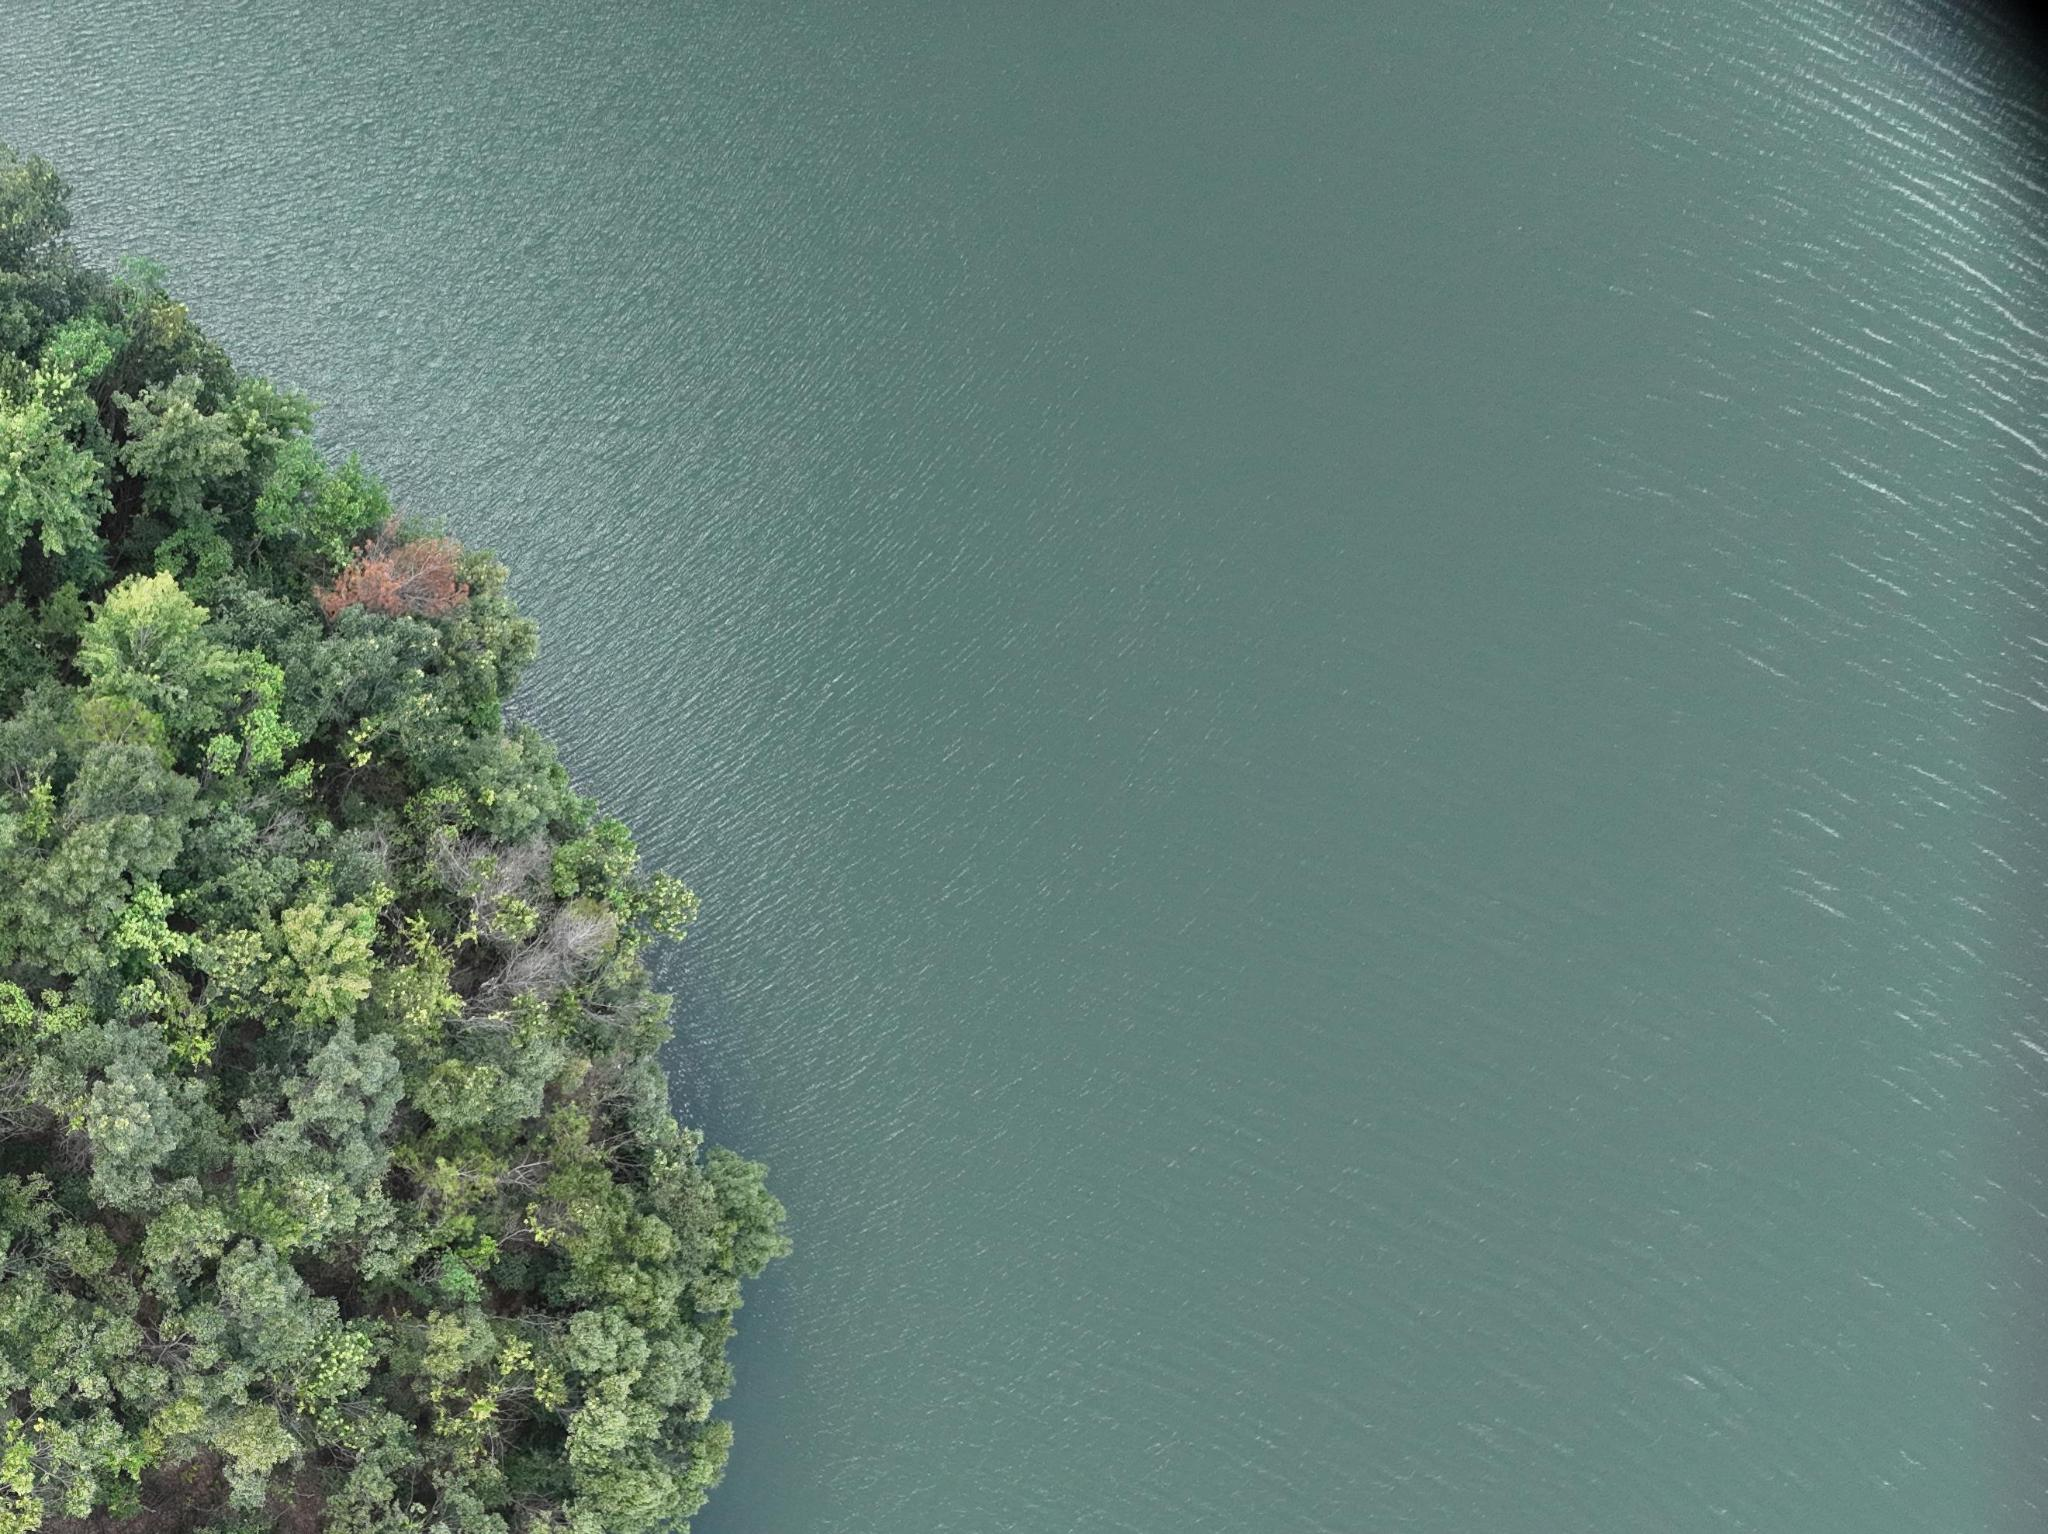dead: (475, 912, 612, 1025), (430, 831, 554, 893)
heavy: (311, 520, 474, 627)
